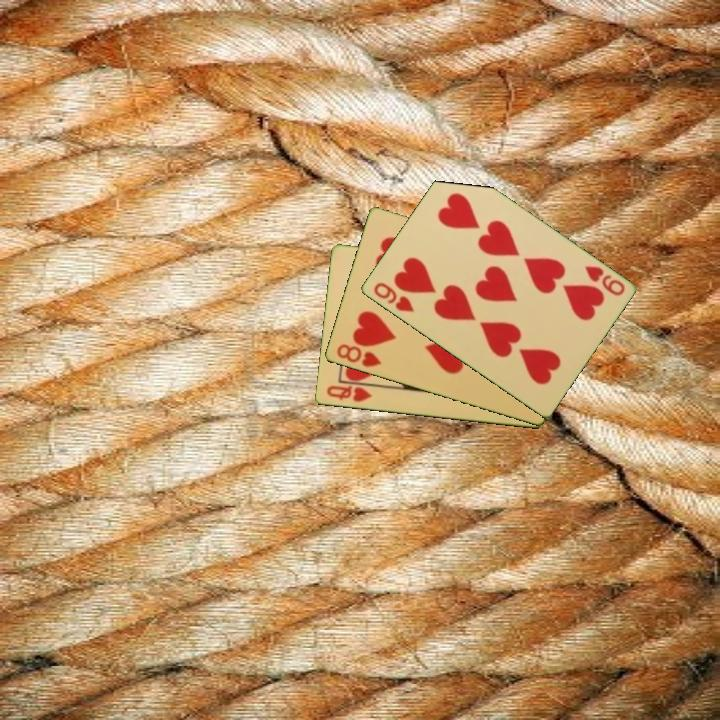8h: (333, 340, 384, 370)
9h: (580, 262, 627, 299), (370, 279, 417, 315)
Qh: (323, 382, 375, 405)
